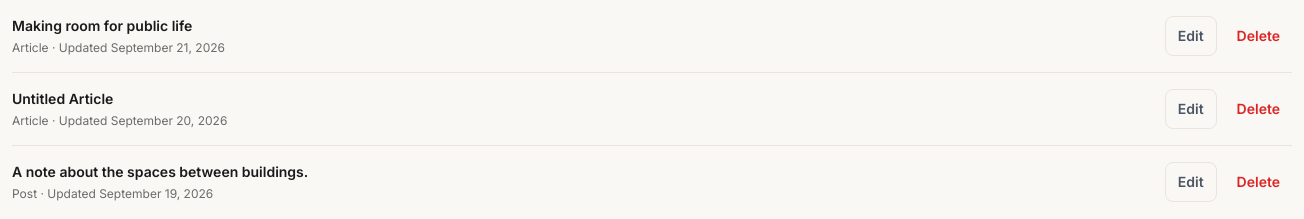
Test case: draft actions › removes only server-confirmed deletions
Click the button "Delete" in the row of "Making room for public life". click: x=1258, y=36
box: [1225,16,1292,56]
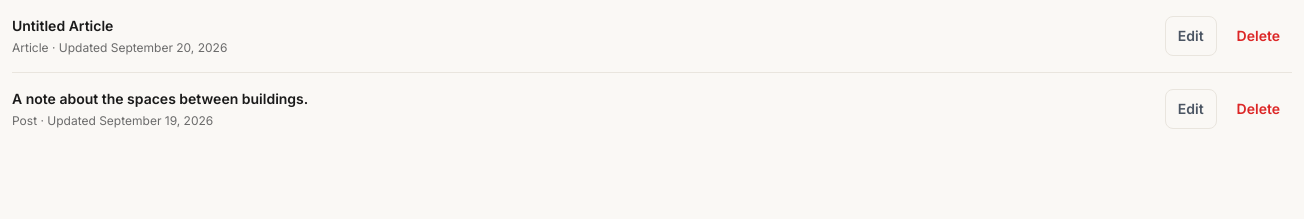
Check: the text "Untitled Article" is shown, box [12,17,113,34]
Check: the text "Making room for public life" is gone
